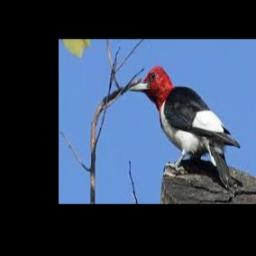Woodpecker: (129, 66, 240, 188)
